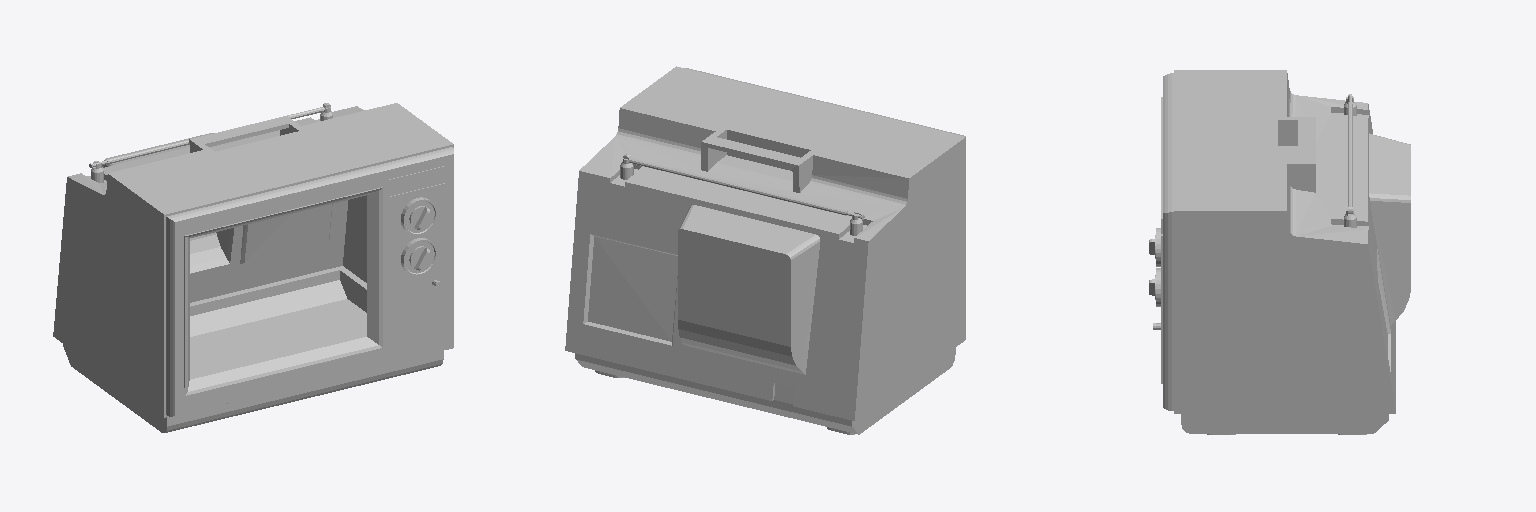
Rendered from Television.obj.
3 renders of one model, left to right at view 1: azimuth 30°, elevation 25°; view 2: azimuth 150°, elevation 25°; view 3: azimuth 270°, elevation 25°, orthographic.
Visible parts, largest first — view 1: Television_01; view 2: Television_01; view 3: Television_01.
Part boxes in pixels (x1,y1,x2,y2): Television_01: (53, 103, 453, 432); Television_01: (565, 66, 965, 434); Television_01: (1149, 70, 1410, 434).
Bounding box in the file's own units: 0.6 × 0.4568 × 0.4708.